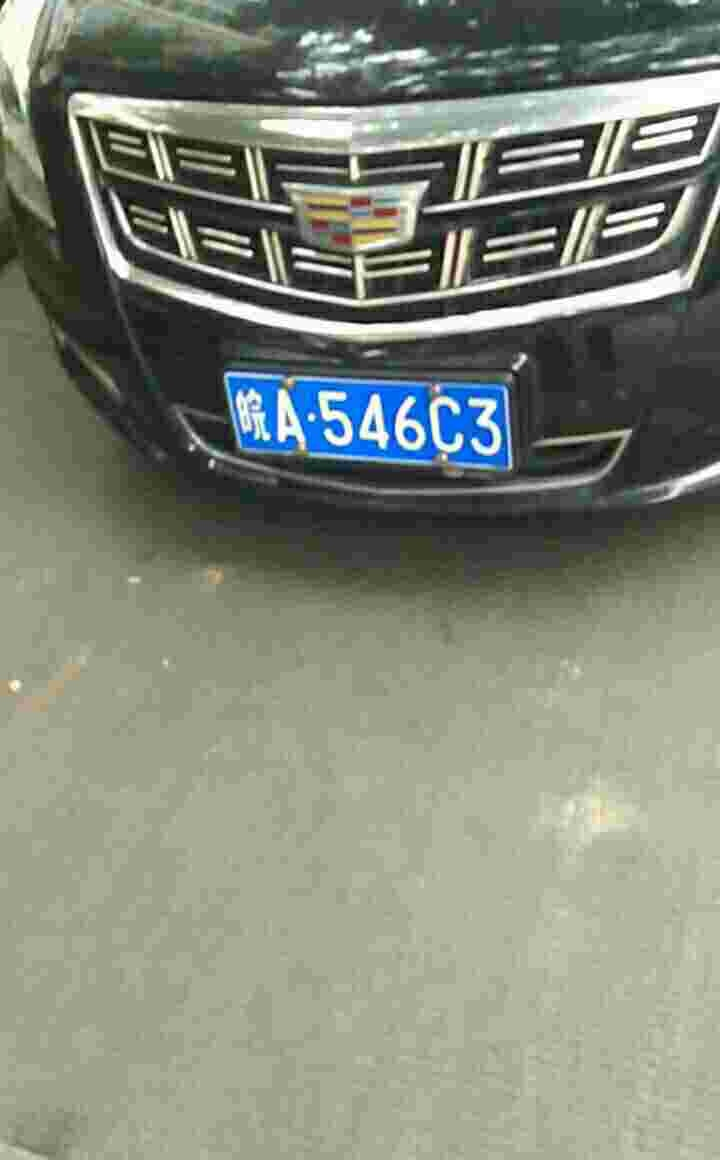license_plate: (236, 379, 510, 472)
